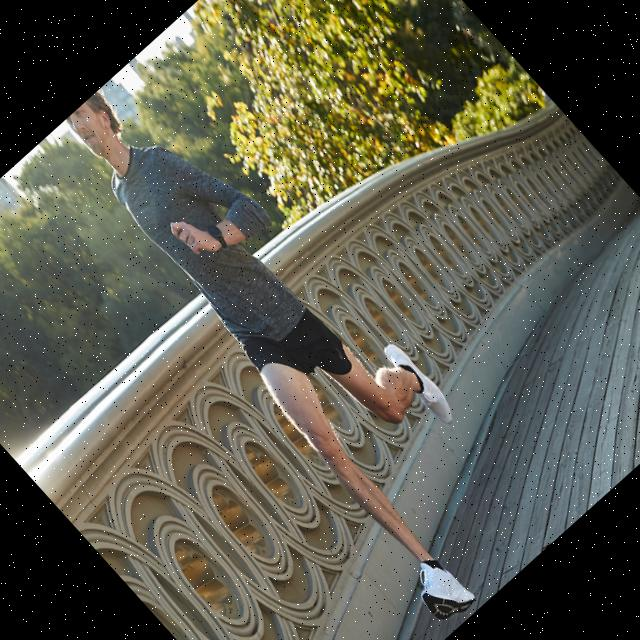Person: (21, 55, 560, 630)
